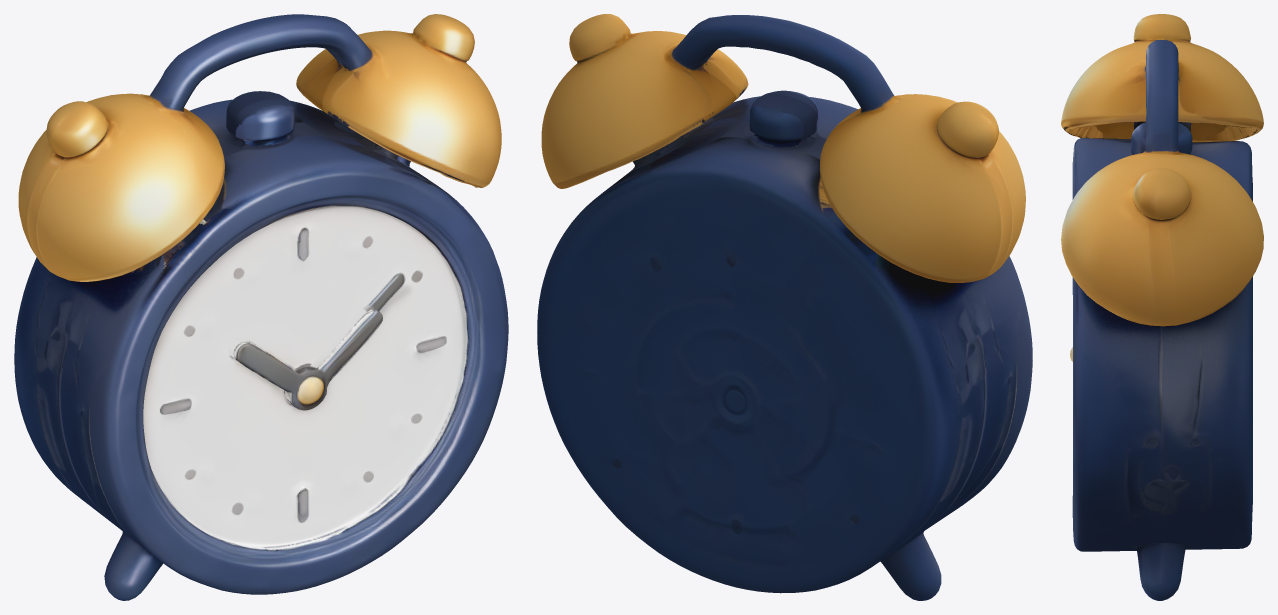
File: base_basic_shaded.glb
3 renders of one model, left to right at view 1: azimuth 30°, elevation 25°; view 2: azimuth 150°, elevation 25°; view 3: azimuth 270°, elevation 25°, orthographic. The views are drawn at different scales.
Parts seen in each view (by area): view 1: model; view 2: model; view 3: model.
Part boxes in pixels (left/top/right/bottom): model: left=14, top=14, right=508, bottom=600; model: left=537, top=14, right=1032, bottom=600; model: left=1061, top=14, right=1263, bottom=600.
Size of the model in its own units: 1.66 by 1.9 by 0.725.
1 material, 1 textured.
